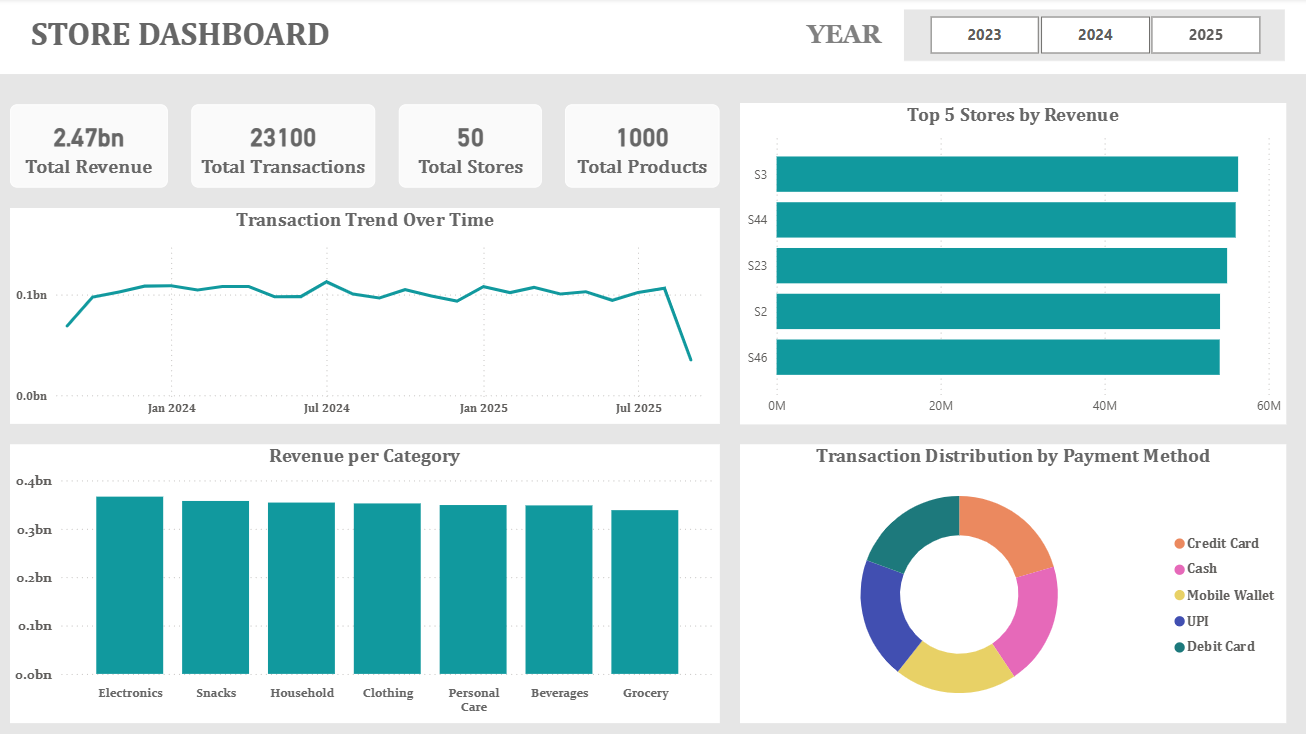

This screenshot's page, from the dashboard's own definition file:
{"tool":"powerbi","page":{"name":"Page 1","canvas":[1280,720],"ordinal":0},"visuals":[{"type":"card","fields":{"Values":["Sum(retail_store_transactions_23100.total_amount)"]},"box":[10,103.9,154.3,81.4],"z":0},{"type":"card","fields":{"Values":["Count(retail_store_transactions_23100.transaction_id)"]},"box":[187.1,103.9,180,81.4],"z":1000},{"type":"card","fields":{"Values":["Count(retail_store_transactions_23100.store_id)"]},"box":[390,103.9,140,81.4],"z":2000},{"type":"clusteredColumnChart","title":"Revenue per Category","fields":{"Category":["retail_store_transactions_23100.product_category"],"Y":["Sum(retail_store_transactions_23100.total_amount)"]},"box":[10,437.1,694.3,272.9],"z":3000},{"type":"lineChart","title":"Transaction Trend Over Time","fields":{"Y":["Sum(retail_store_transactions_23100.total_amount)"],"Category":["retail_store_transactions_23100.transaction_time.Variation.Date Hierarchy.Year","retail_store_transactions_23100.transaction_time.Variation.Date Hierarchy.Month"]},"box":[10,205.7,694.3,211.4],"z":4000},{"type":"barChart","title":"Top 5 Stores by Revenue","fields":{"Y":["Sum(retail_store_transactions_23100.total_amount)"],"Category":["retail_store_transactions_23100.store_id"]},"box":[724.3,102.9,534.3,314.3],"z":5000},{"type":"donutChart","title":"Transaction Distribution by Payment Method","fields":{"Category":["retail_store_transactions_23100.payment_method"],"Y":["CountNonNull(retail_store_transactions_23100.transaction_id)"]},"box":[724.3,437.1,534.3,272.9],"z":6000},{"type":"card","fields":{"Values":["Count(retail_store_transactions_23100.product_id)"]},"box":[552.9,103.9,151.4,81.4],"z":7000},{"type":"card","fields":{"Values":["Sum(retail_store_transactions_23100.discount)"]},"box":[0,0,1280,74.3],"z":8000},{"type":"slicer","fields":{"Values":["retail_store_transactions_23100.transaction_time.Variation.Date Hierarchy.Year"]},"box":[884.3,11.4,372.9,50],"z":9000},{"type":"textbox","box":[774.3,17.1,102.9,44.3],"z":10000},{"type":"textbox","box":[17.1,11.4,318.6,50],"z":11000}]}

Visuals, with their boxes in screenshot pixels (x1, y1, x2, y2), scaled from the page's 1280x720 canvas onto the 1306x734 screenshot:
card - Sum(retail_store_transactions_23100.total_amount): [10, 106, 168, 189]
card - Count(retail_store_transactions_23100.transaction_id): [191, 106, 375, 189]
card - Count(retail_store_transactions_23100.store_id): [398, 106, 541, 189]
"Revenue per Category" clusteredColumnChart: [10, 446, 719, 724]
"Transaction Trend Over Time" lineChart: [10, 210, 719, 425]
"Top 5 Stores by Revenue" barChart: [739, 105, 1284, 425]
"Transaction Distribution by Payment Method" donutChart: [739, 446, 1284, 724]
card - Count(retail_store_transactions_23100.product_id): [564, 106, 719, 189]
card - Sum(retail_store_transactions_23100.discount): [0, 0, 1305, 76]
slicer - retail_store_transactions_23100.transaction_time.Variation.Date Hierarchy.Year: [902, 12, 1283, 63]
textbox: [790, 17, 895, 63]
textbox: [17, 12, 343, 63]
